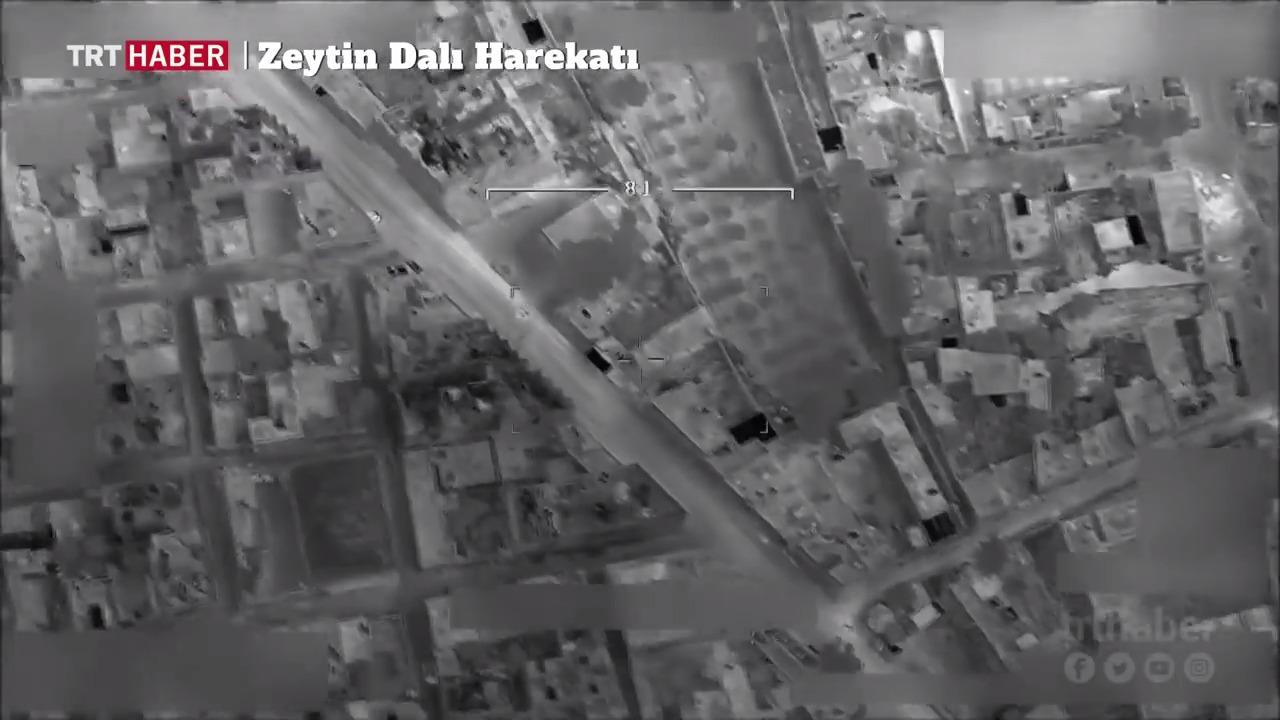bina: (829, 395, 952, 536)
